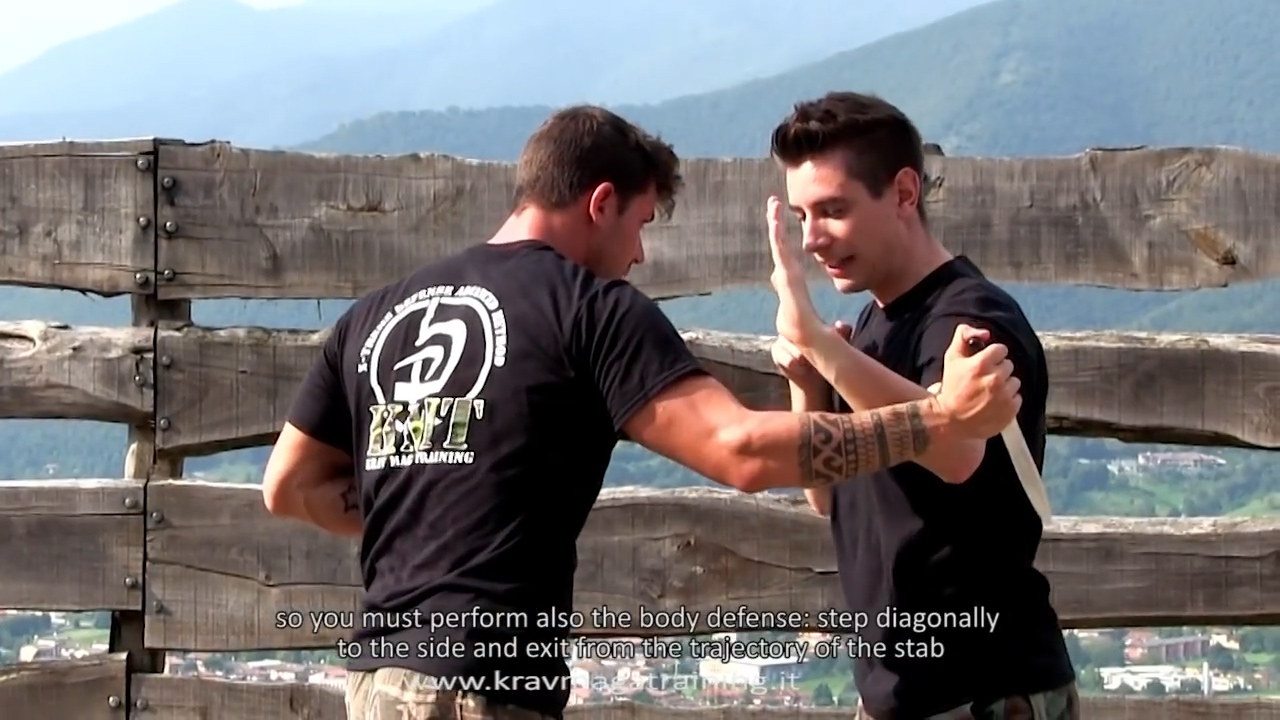knife: (941, 321, 1059, 538)
